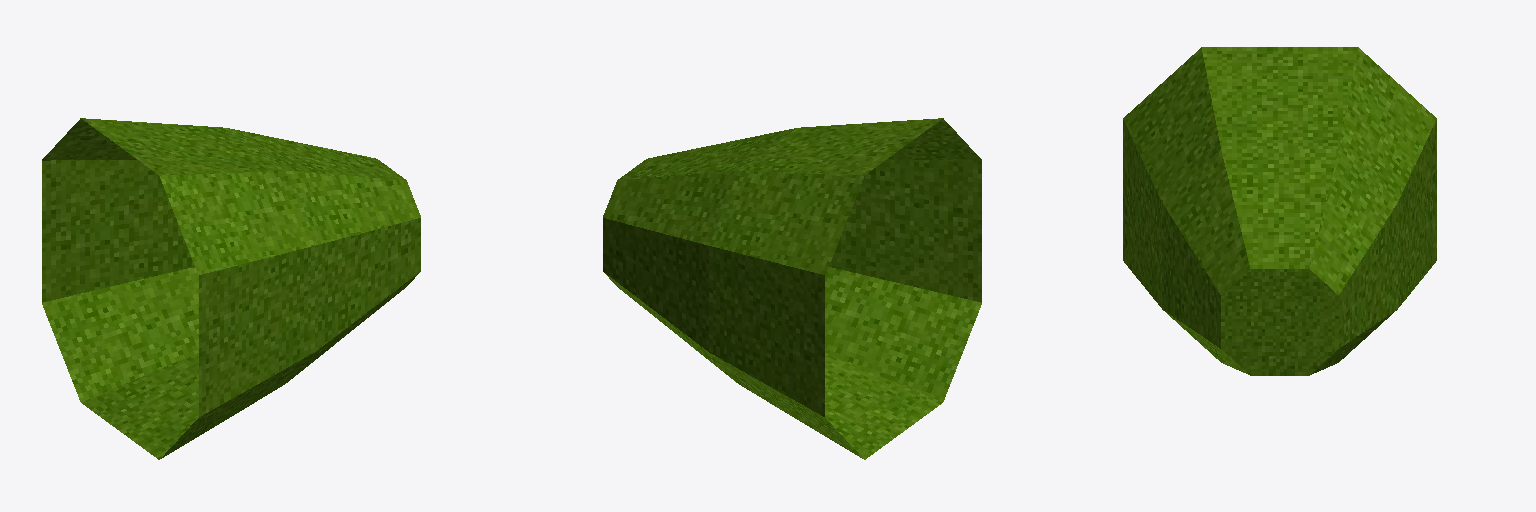
The picture shows the model from 3 angles: view 1: azimuth 30°, elevation 25°; view 2: azimuth 150°, elevation 25°; view 3: azimuth 270°, elevation 25°; orthographic projection.
Parts seen in each view (by area): view 1: 0.002; view 2: 0.002; view 3: 0.002.
Part boxes in pixels (x1,y1,x2,y2): 0.002: (42,118,420,459); 0.002: (603,118,981,459); 0.002: (1123,47,1436,375).
Size of the model in its own units: 1 by 1 by 1.
1 materials, 1 textured.